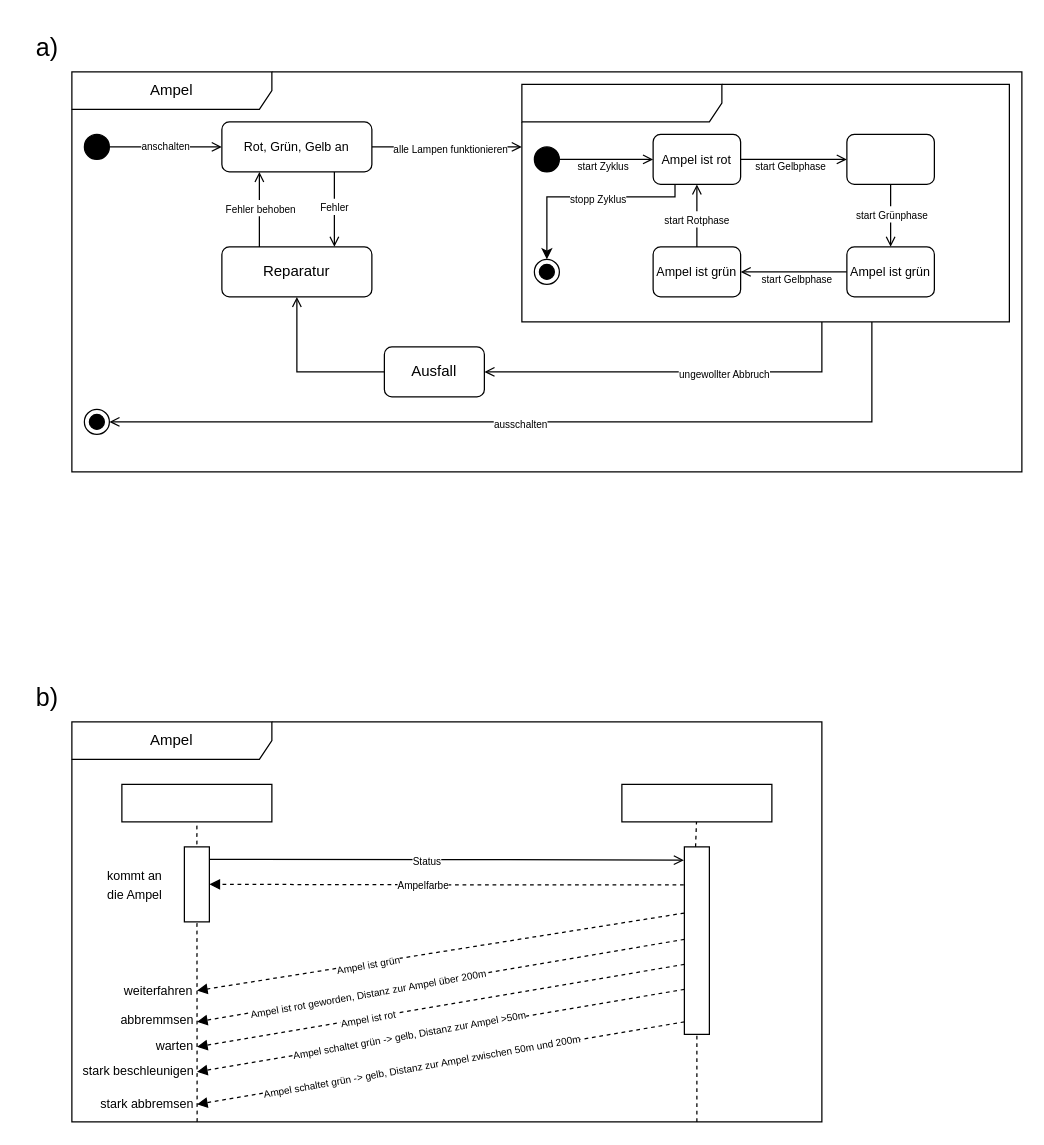
This 1044x1145 diagram has some shape labels left out. Each missing label, with the box of its shape:
:Ampel: (621, 783, 772, 822)
:Auto: (121, 783, 272, 822)
Ampel ist gelb: (846, 133, 934, 184)
Ampelzyklus: (521, 83, 1009, 322)
